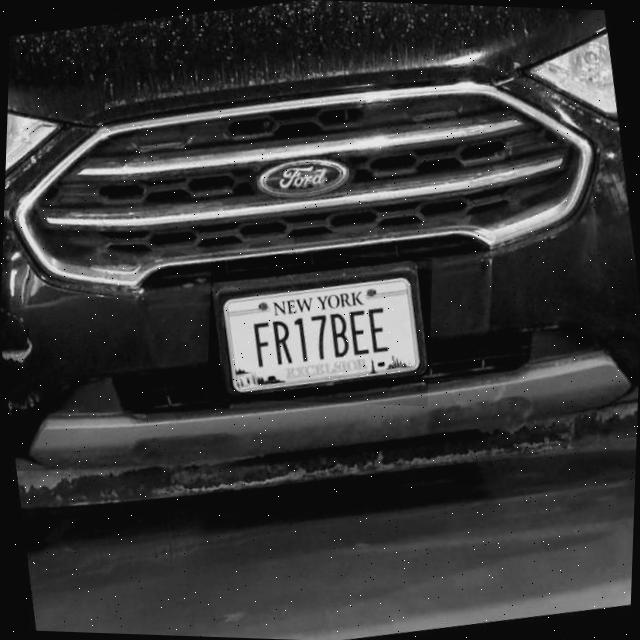LicensePlate: (210, 259, 428, 399)
